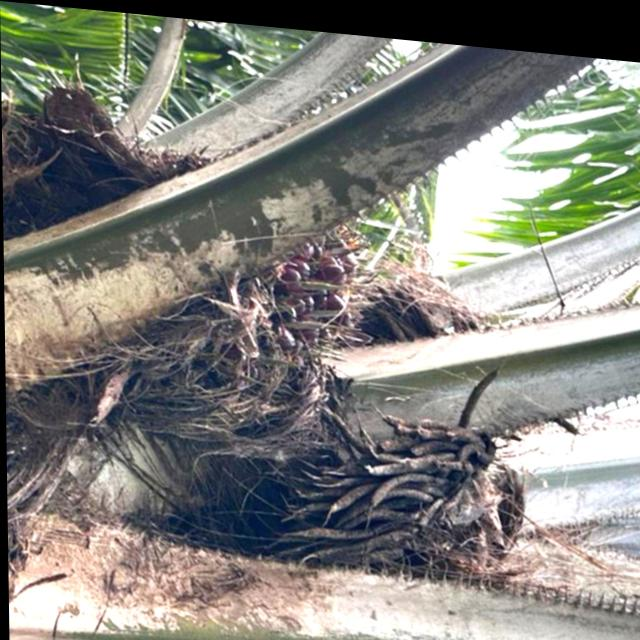ripe: (223, 195, 391, 386)
